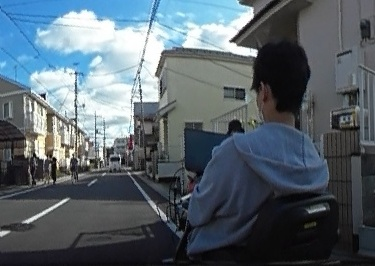person: (190, 40, 319, 262), (28, 151, 41, 185), (70, 153, 78, 181), (49, 155, 58, 179), (43, 154, 51, 181)
